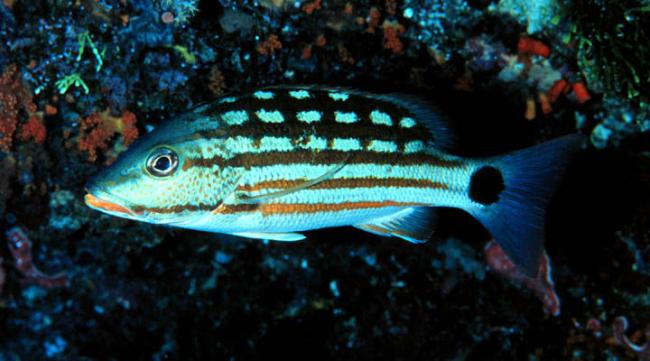fish: (83, 83, 580, 279)
